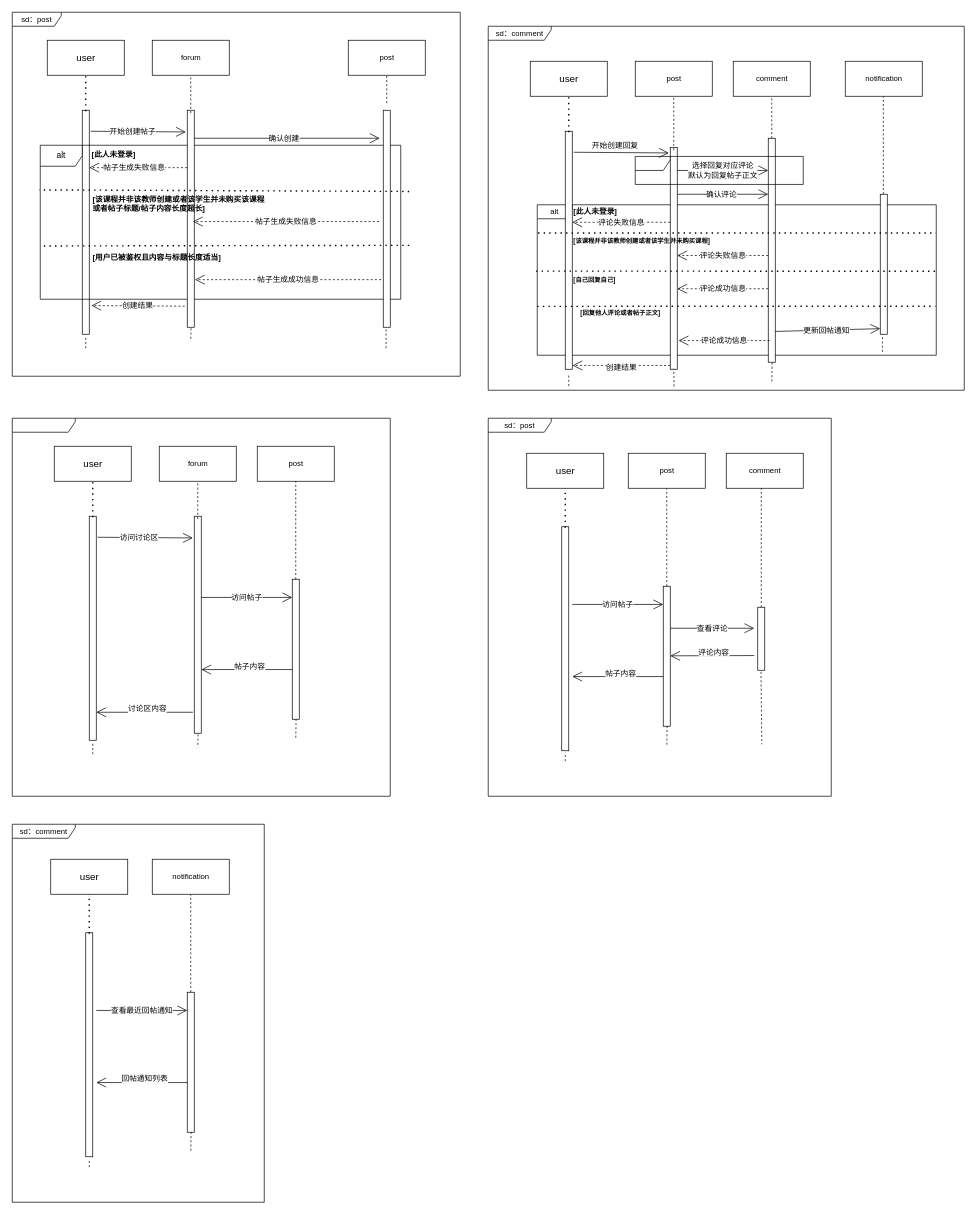
This 977x1215 diagram has some shape labels left out. Each missing label, with the box of its shape:
opt: (635, 156, 803, 184)
sd：forum: (12, 418, 390, 796)
